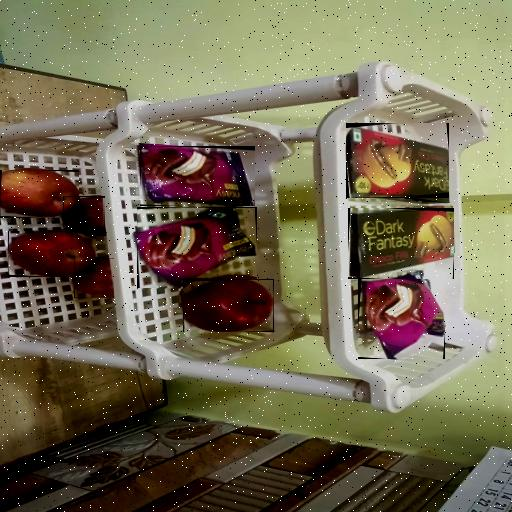Apple: (183, 279, 274, 332), (8, 231, 96, 277), (0, 170, 79, 218), (63, 196, 105, 235), (74, 258, 114, 298)
Choco Fills: (346, 123, 449, 198), (348, 208, 454, 279)
Choco Pie: (137, 208, 257, 290), (358, 272, 445, 359), (140, 146, 255, 206)
